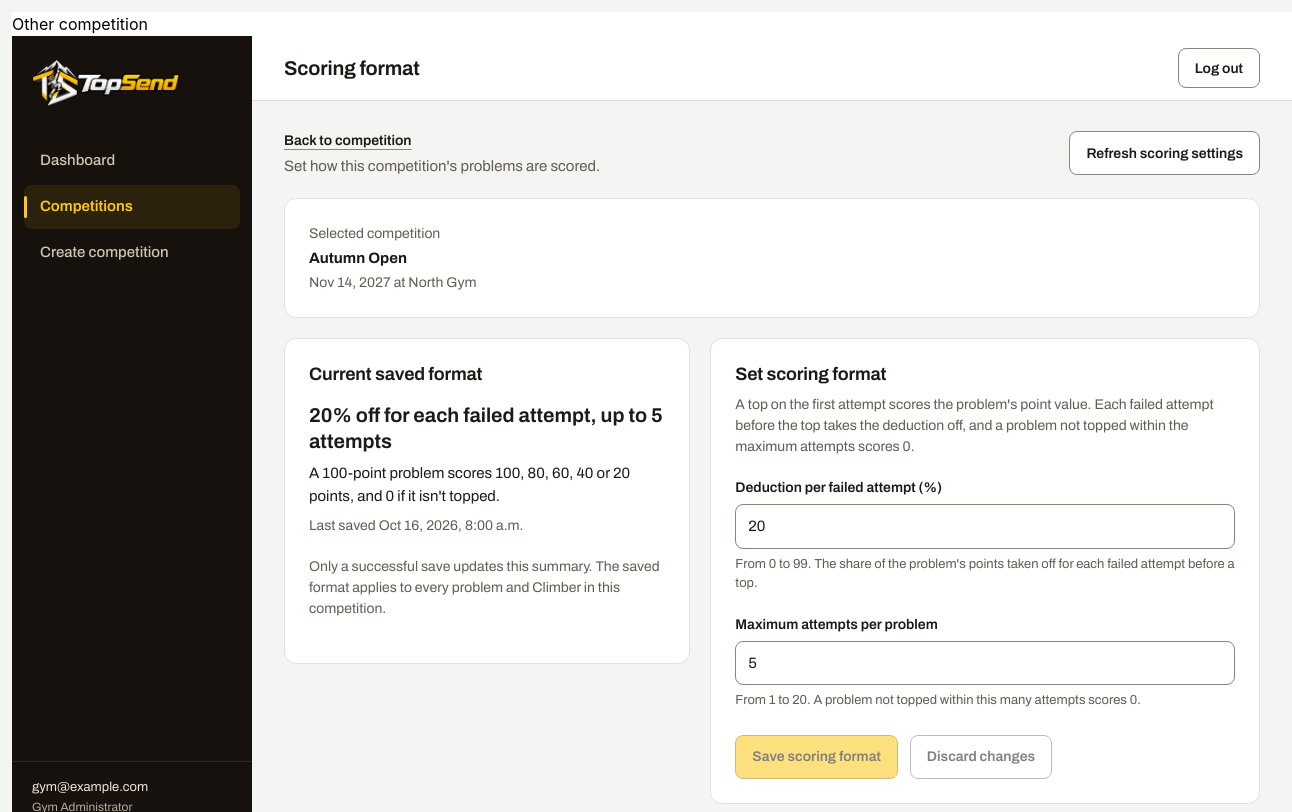
it: US018 #86/#87 scoring settings and saved format › rejects deduction '-1' without a write
This screenshot has width=1292, height=812.
Replace the text in the number field labelled "Deduction per failed attempt (%)" with "-1" at (985, 527), box left=735, top=504, right=1235, bottom=549
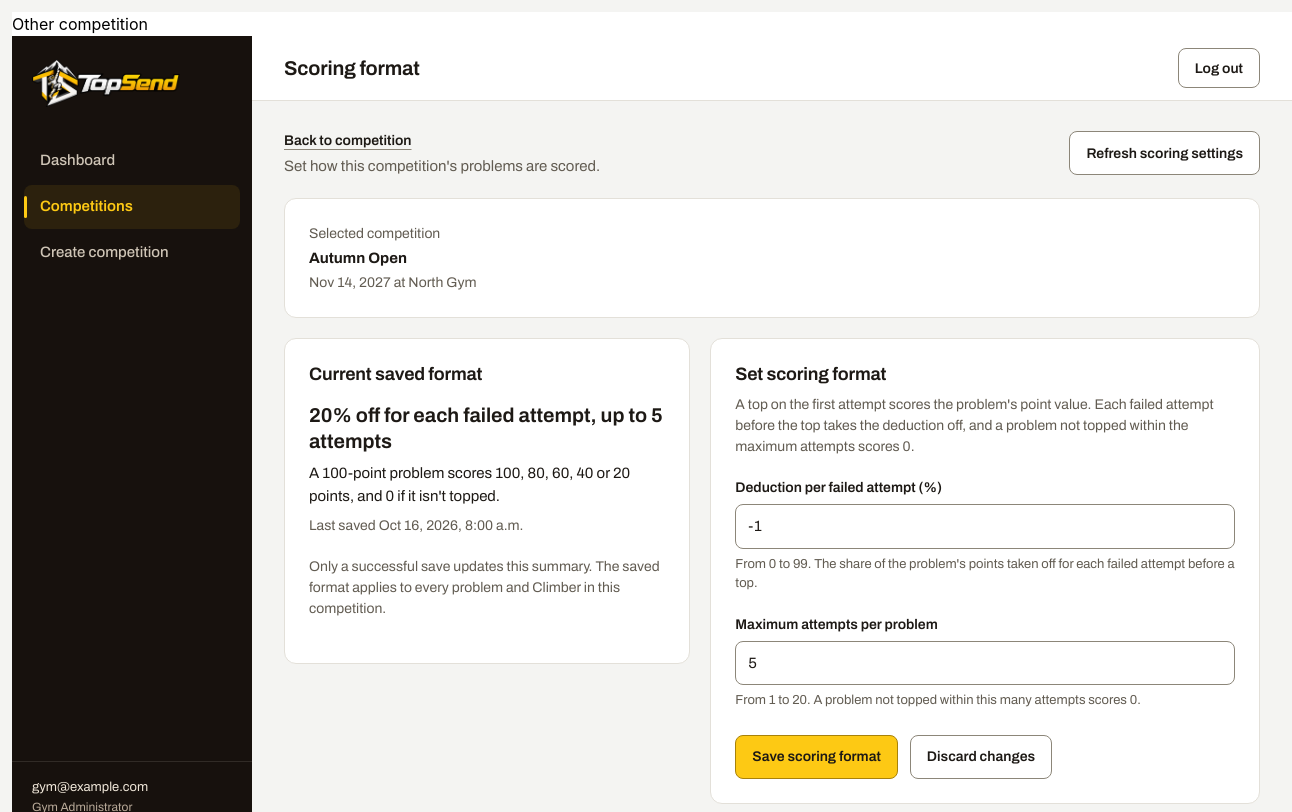
Submit the form named "Configure scoring format", box left=710, top=338, right=1260, bottom=804
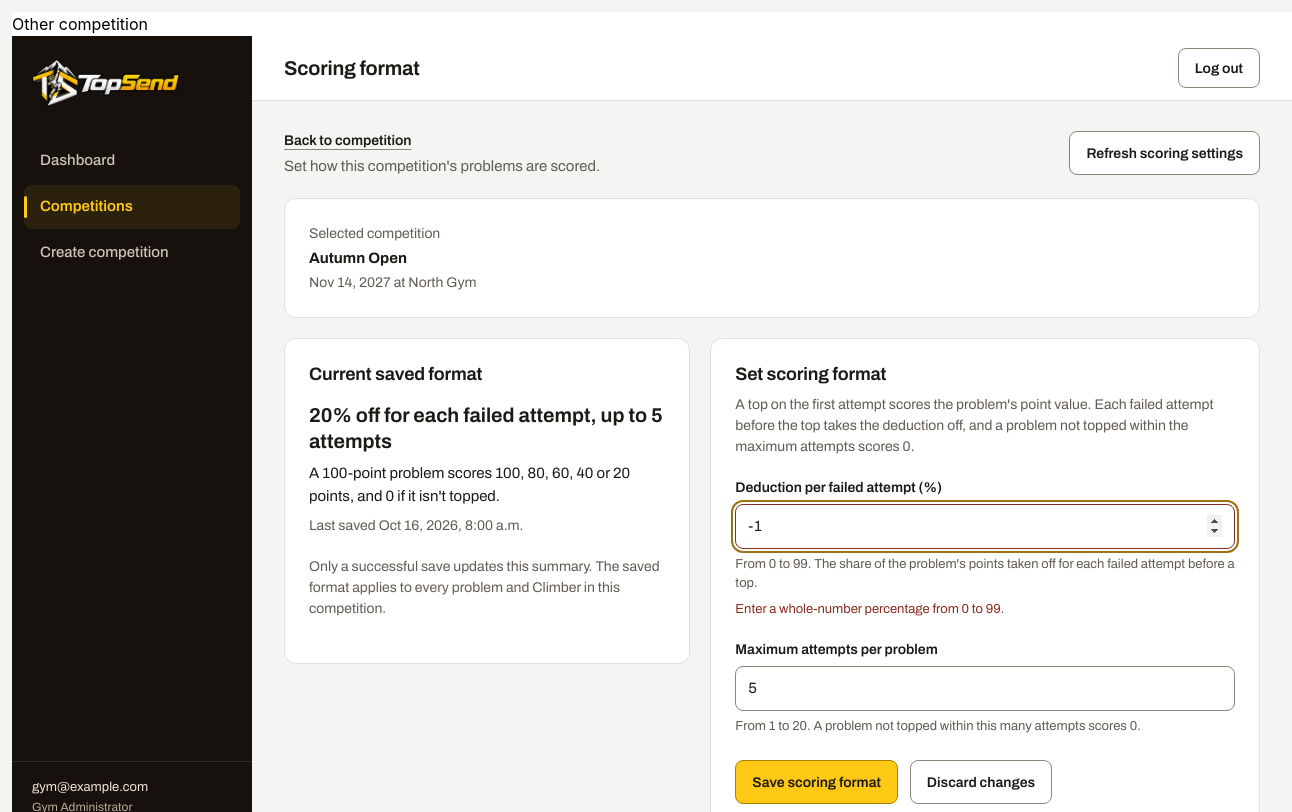
Expected: the text "Enter a whole-number percentage from 0 to 99." is shown, left=735, top=602, right=1004, bottom=616
